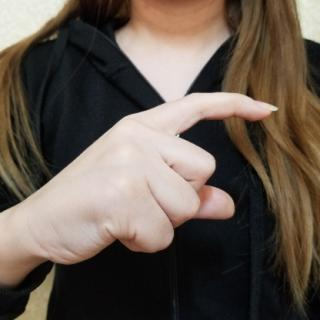DELL: (0, 85, 282, 269)
